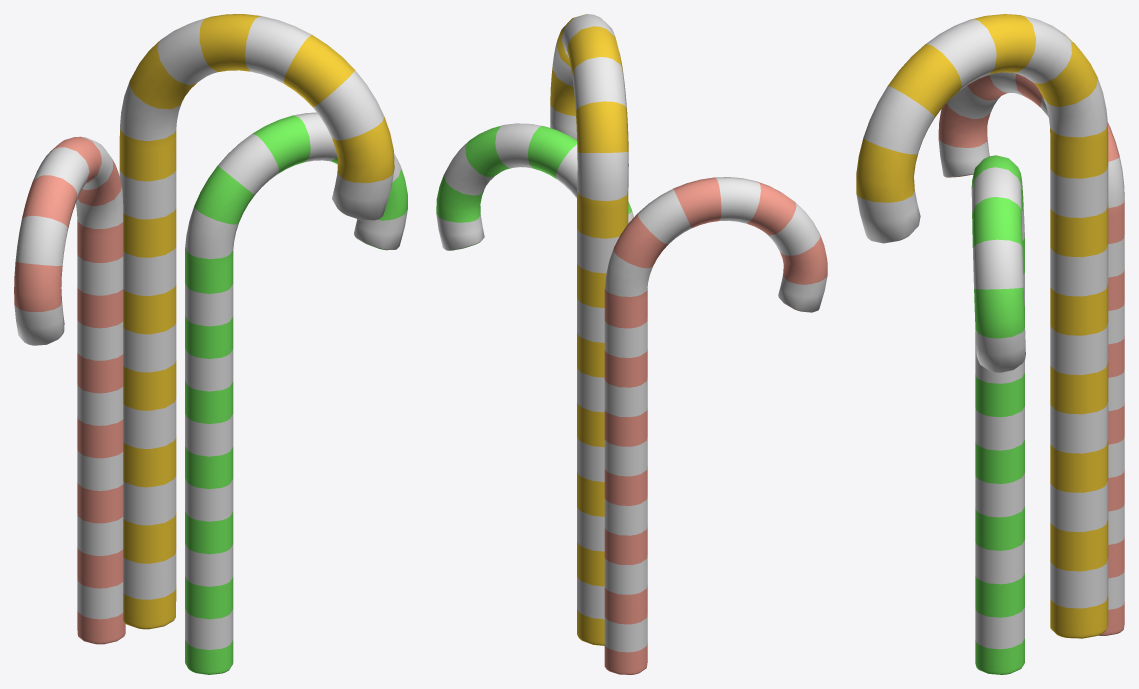
File: stickCandy.glb
3 renders of one model, left to right at view 1: azimuth 30°, elevation 25°; view 2: azimuth 150°, elevation 25°; view 3: azimuth 270°, elevation 25°, orthographic. The views are drawn at different scales.
Visible parts, largest first — view 1: Torus.001; view 2: Torus.001; view 3: Torus.001.
Boxes of the visible parts, box(x1,y1,x2,y2) form: Torus.001: box(14, 14, 407, 674); Torus.001: box(436, 14, 827, 674); Torus.001: box(856, 14, 1124, 674).
Size of the model in its own units: 1.35 by 2.06 by 0.7552.
